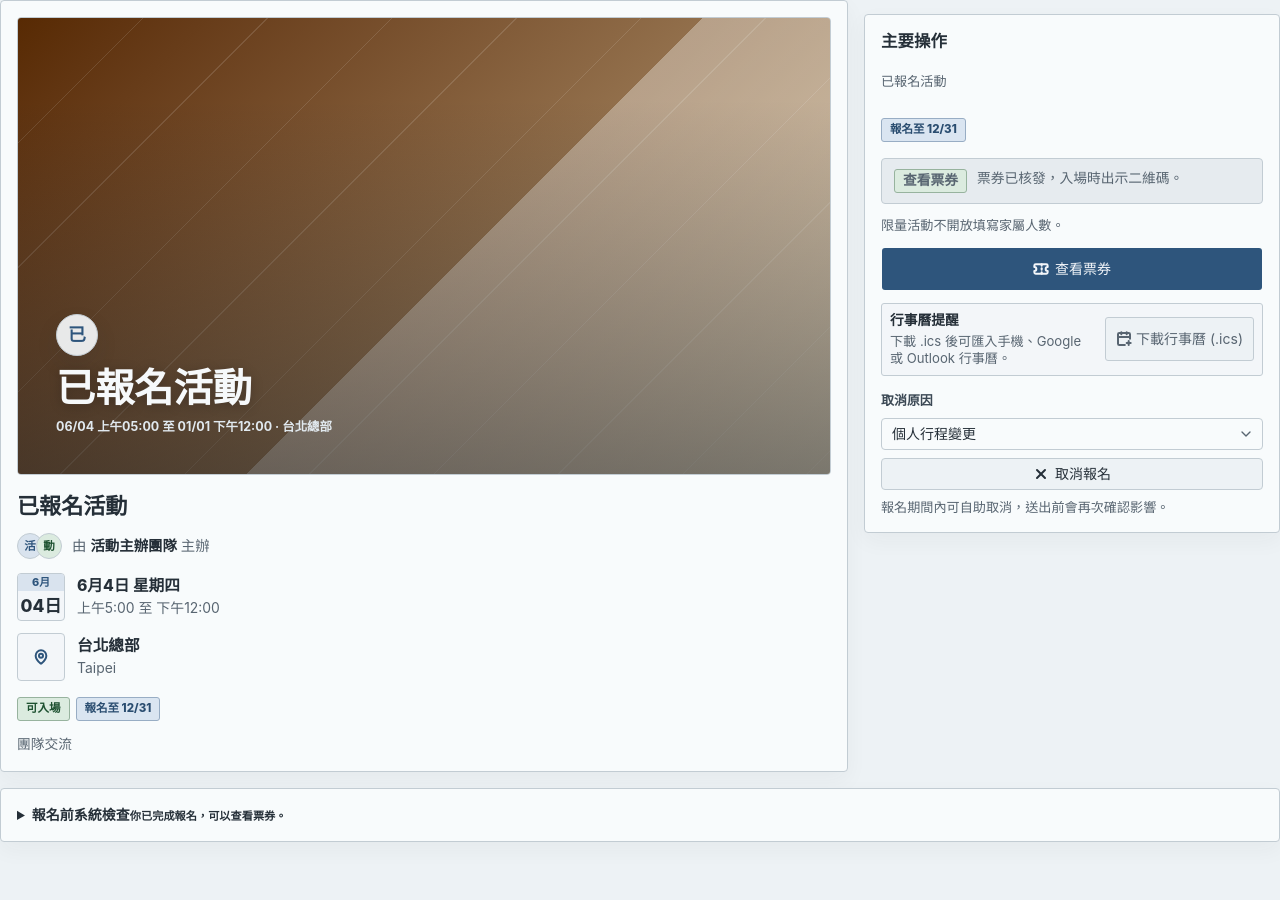
Scenario: EmployeeEventDetailPage › downloads an ICS file from event detail with visible feedback
Click the button with aria-label "下載行事曆 (.ics)：已報名活動": coordinates (1180, 339) [1105,317,1254,361]
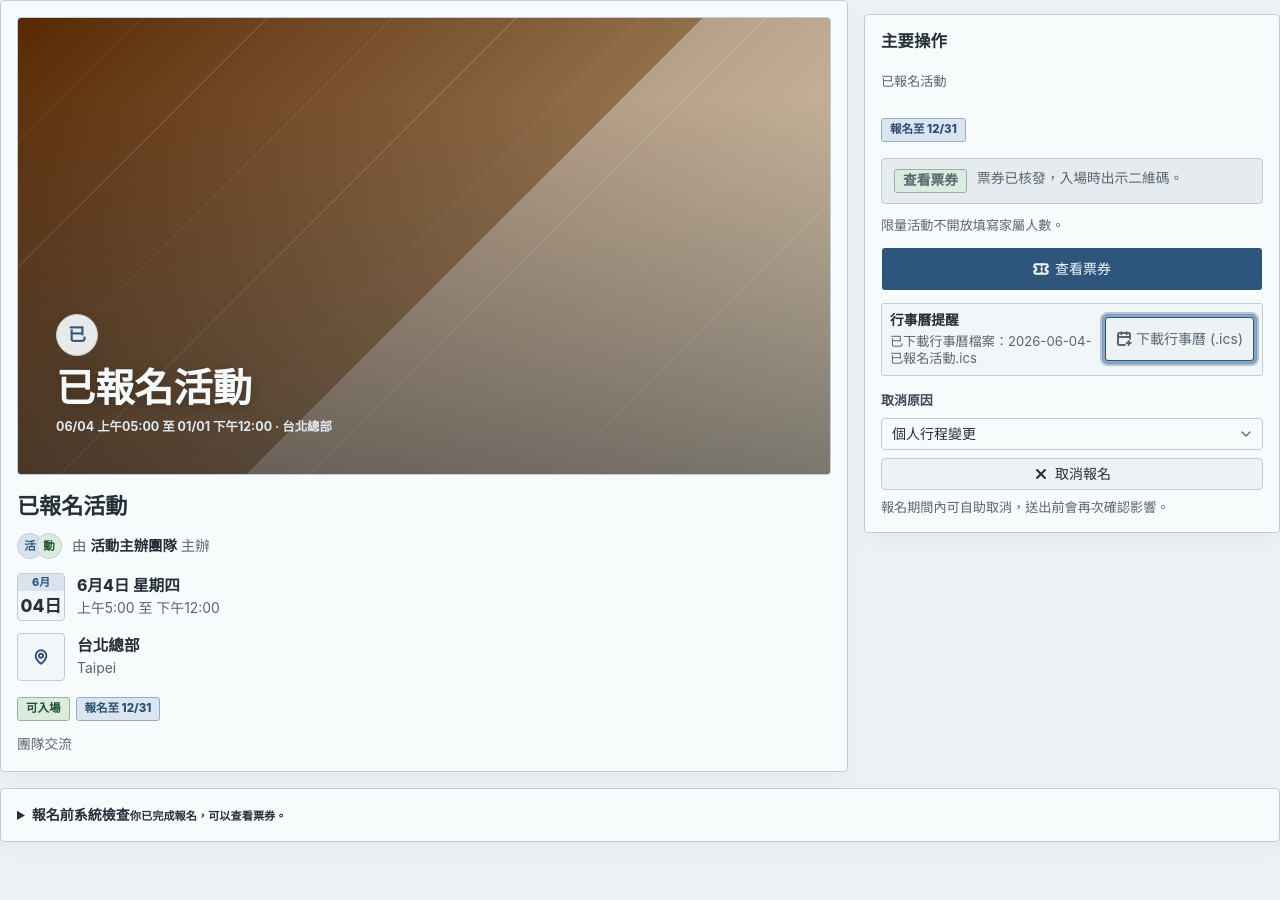
Expected: the text "已下載行事曆檔案：2026-06-04-已報名活動.ics" is shown, [890,332,1097,368]
